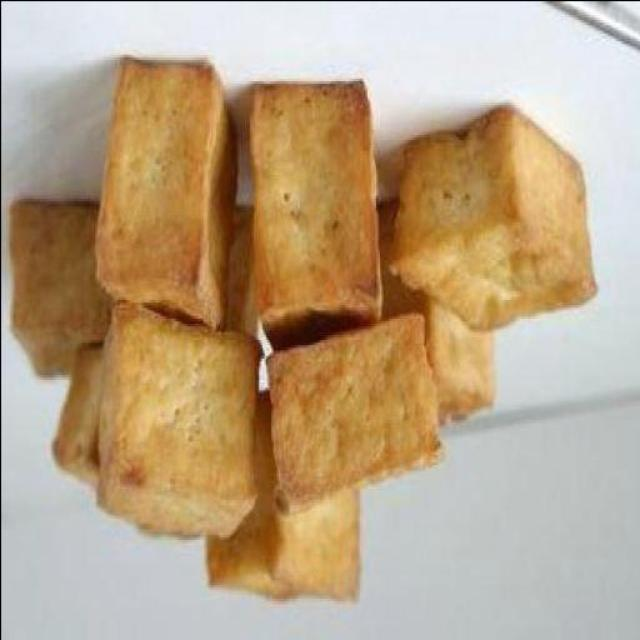tahu goreng: (380, 104, 604, 347), (82, 306, 283, 552), (89, 51, 242, 328), (256, 318, 459, 518), (358, 205, 508, 473), (245, 80, 387, 331), (214, 389, 362, 615), (4, 192, 117, 370)
